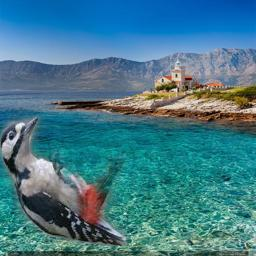Woodpecker: (0, 116, 126, 246)
